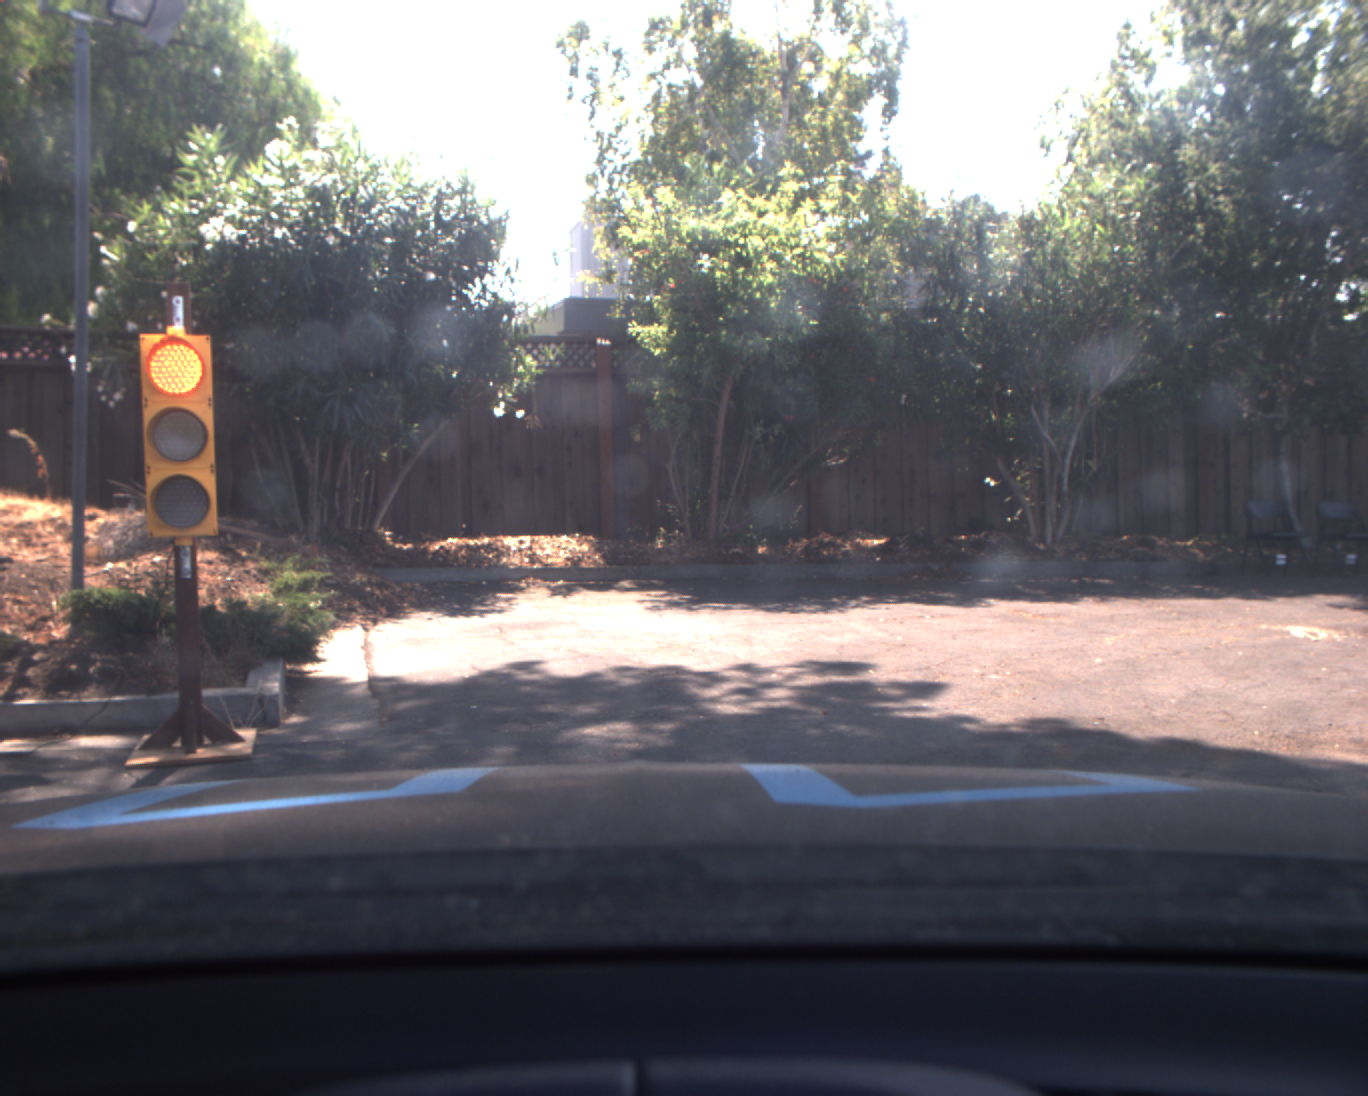red: (136, 325, 220, 540)
